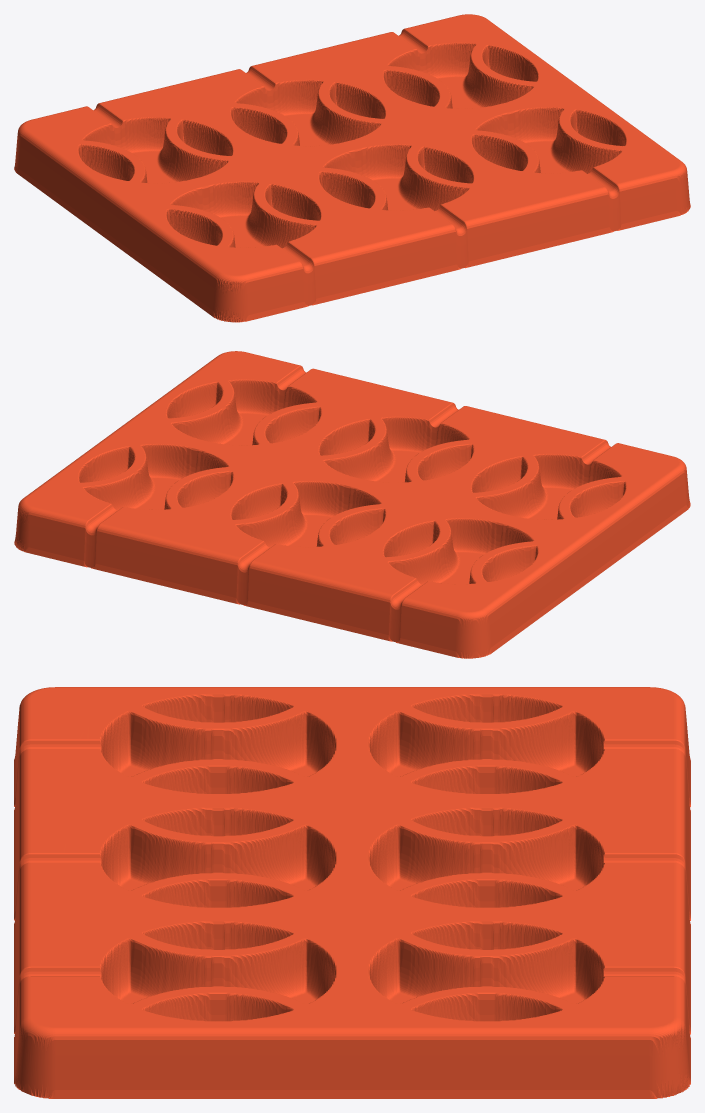
File: mold.glb
3 renders of one model, top to bottom at view 1: azimuth 30°, elevation 25°; view 2: azimuth 150°, elevation 25°; view 3: azimuth 270°, elevation 25°, orthographic. The views are drawn at different scales.
Parts seen in each view (by area): view 1: geometry_0; view 2: geometry_0; view 3: geometry_0.
Part boxes in pixels (left/top/right/bottom): geometry_0: left=14, top=14, right=690, bottom=322; geometry_0: left=14, top=351, right=690, bottom=658; geometry_0: left=14, top=687, right=690, bottom=1098.
Bounding box in the file's own units: 0.1824 × 0.0155 × 0.1477.
